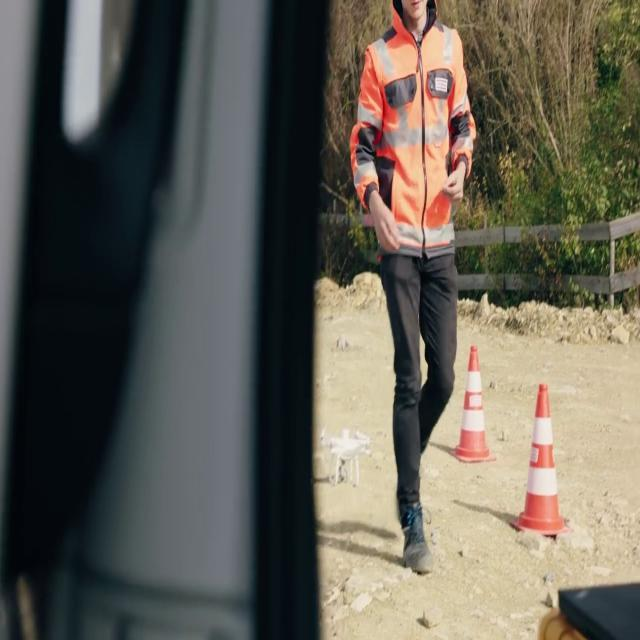drone: (317, 421, 375, 491)
